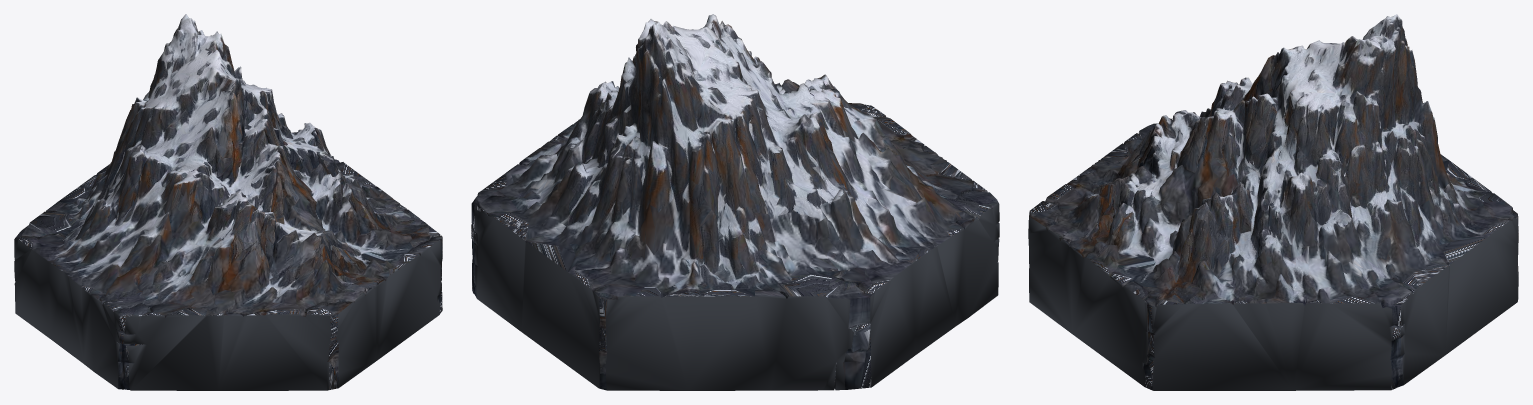
Rendered from mountain.glb.
The picture shows the model from 3 angles, left to right: view 1: azimuth 30°, elevation 25°; view 2: azimuth 150°, elevation 25°; view 3: azimuth 270°, elevation 25°; orthographic projection. The views are drawn at different scales.
Parts seen in each view (by area): view 1: Mountain tile; view 2: Mountain tile; view 3: Mountain tile.
Boxes of the visible parts, box(x1,y1,x2,y2) form: Mountain tile: box(14, 14, 442, 390); Mountain tile: box(471, 14, 999, 390); Mountain tile: box(1028, 14, 1518, 390).
Size of the model in its own units: 1.7 by 1.28 by 1.94.
2 materials, 1 textured.
